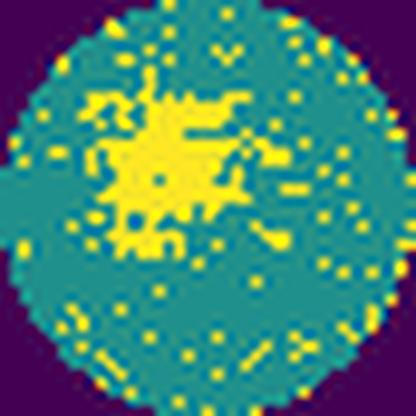Loc: (86, 68, 253, 258)
